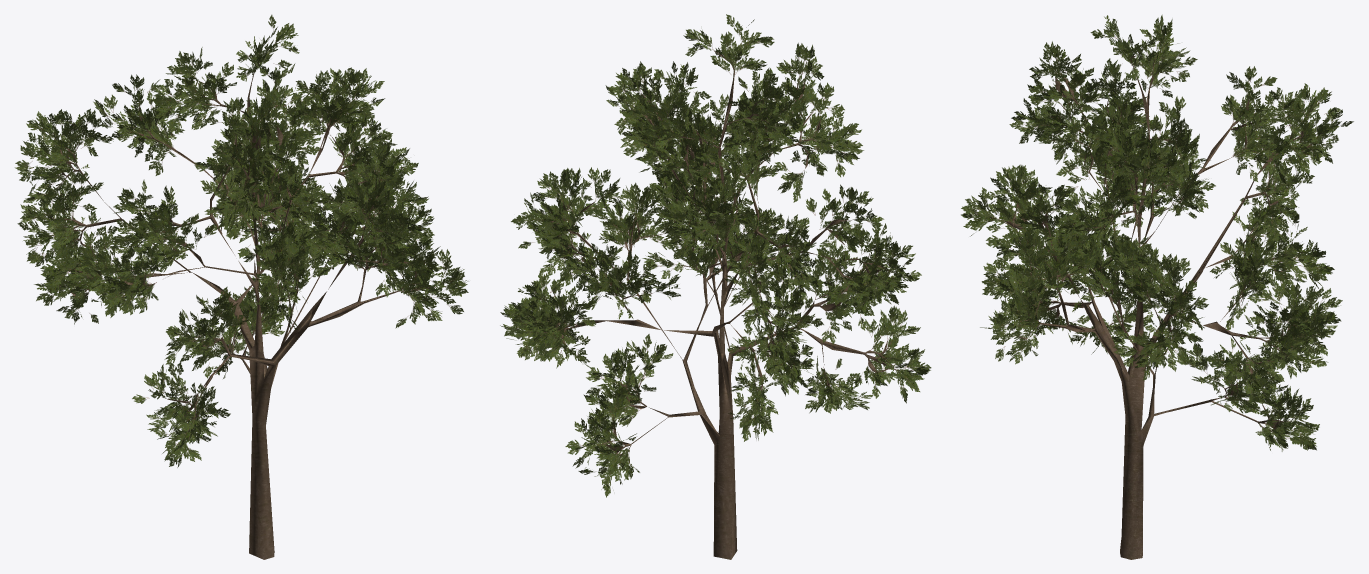
Rendered from enc_tree_green_lg.glb.
3 renders of one model, left to right at view 1: azimuth 30°, elevation 25°; view 2: azimuth 150°, elevation 25°; view 3: azimuth 270°, elevation 25°, orthographic.
Visible parts, largest first — view 1: KB3D_ENC_BldgLgManor_A_Tree; view 2: KB3D_ENC_BldgLgManor_A_Tree; view 3: KB3D_ENC_BldgLgManor_A_Tree.
Boxes of the visible parts, x1,y1,x2,y2 form: KB3D_ENC_BldgLgManor_A_Tree: [14, 14, 468, 559]; KB3D_ENC_BldgLgManor_A_Tree: [500, 14, 931, 559]; KB3D_ENC_BldgLgManor_A_Tree: [961, 14, 1353, 559].
Size of the model in its own units: 9.6 by 13.19 by 8.83.
2 materials, 2 textured.
